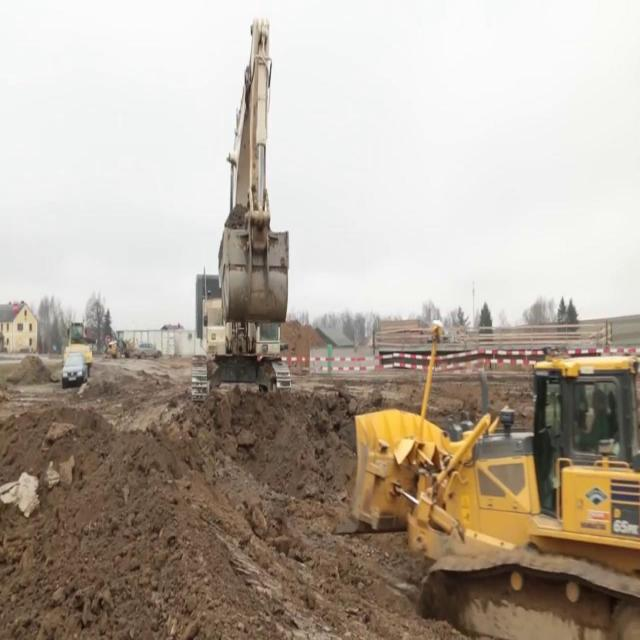Excavator: (190, 16, 292, 403)
Loader: (344, 324, 638, 639), (105, 330, 136, 359)
